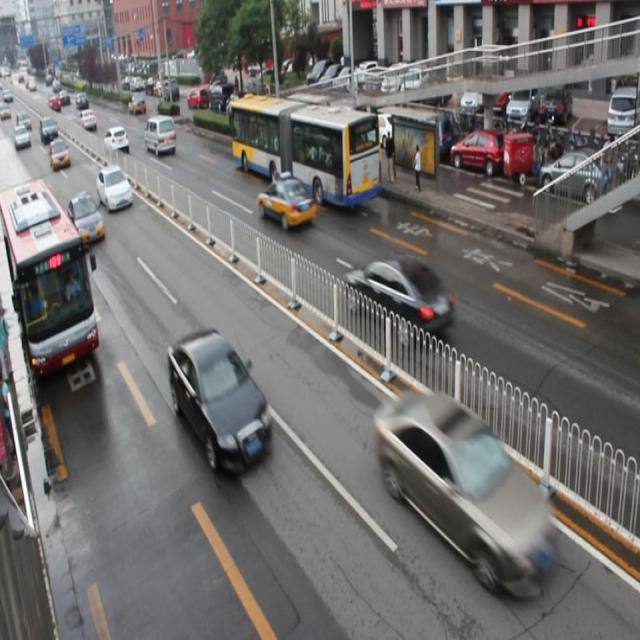car: (375, 390, 554, 595), (167, 330, 272, 470), (345, 254, 453, 344), (257, 172, 316, 231), (68, 189, 105, 241), (96, 164, 134, 214), (106, 129, 128, 152)
truck: (144, 117, 177, 157)
van: (1, 181, 100, 375), (230, 92, 379, 211)
